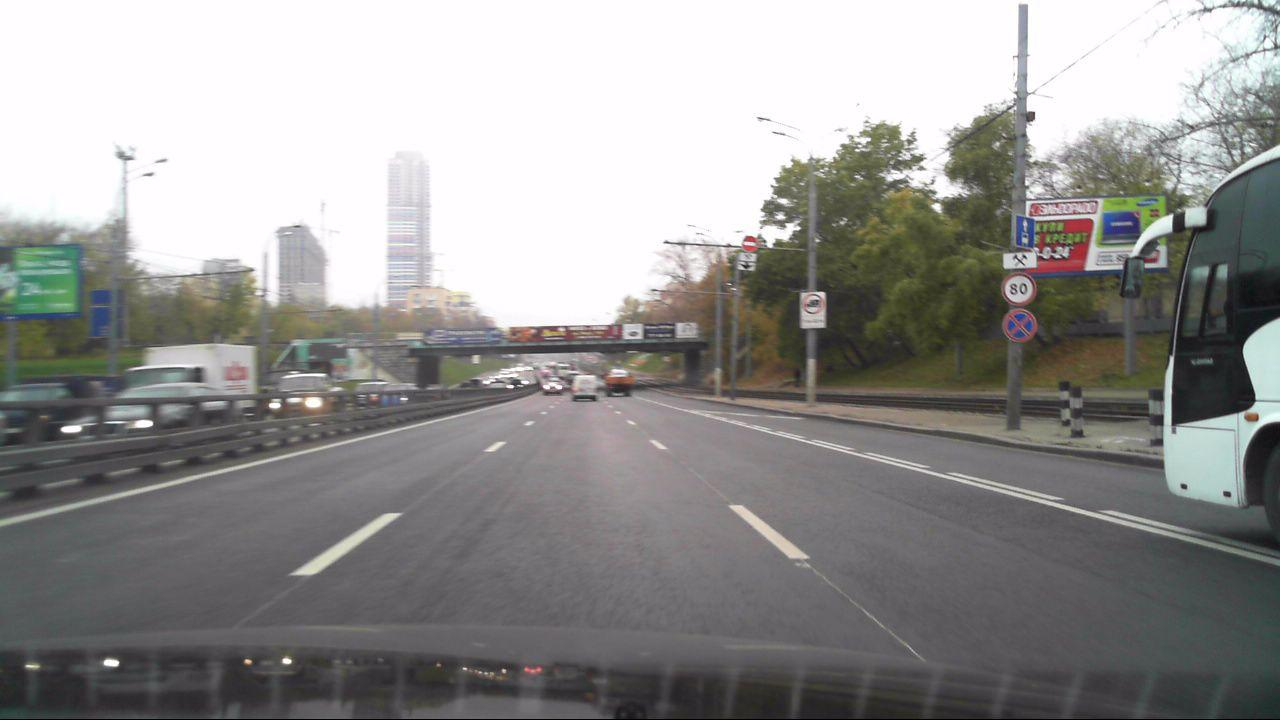road_sign: (1002, 309, 1038, 342), (1002, 273, 1034, 306), (1003, 253, 1036, 267), (741, 235, 759, 253)
